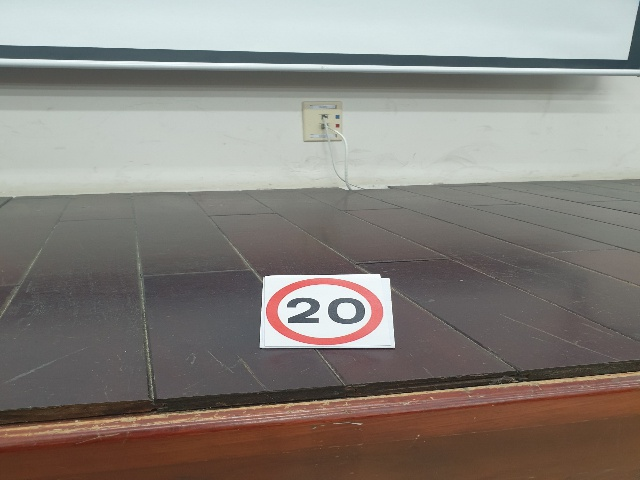Limit 20: (264, 278, 385, 348)
